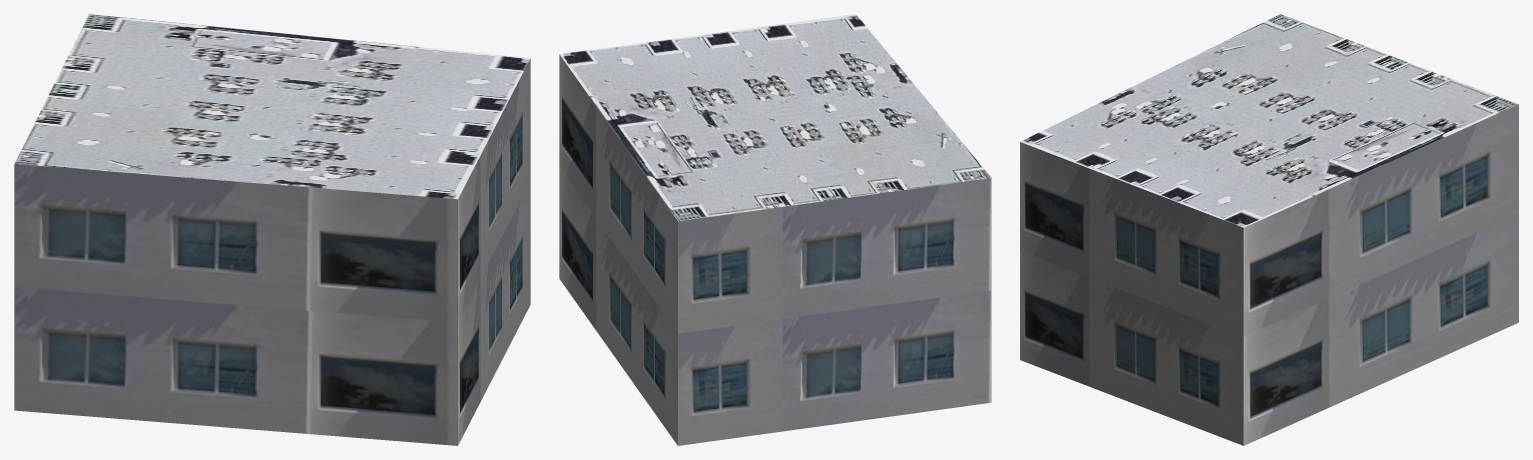
Rendered from ResTex__1680.fbx.
3 renders of one model, left to right at view 1: azimuth 30°, elevation 25°; view 2: azimuth 150°, elevation 25°; view 3: azimuth 270°, elevation 25°, orthographic. The views are drawn at different scales.
Visible parts, largest first — view 1: CityEngineMaterial_10_m, CityEngineMaterial_4_m; view 2: CityEngineMaterial_10_m, CityEngineMaterial_4_m; view 3: CityEngineMaterial_10_m, CityEngineMaterial_4_m.
Part boxes in pixels (x1,y1,x2,y2): CityEngineMaterial_10_m: [14, 58, 530, 445]; CityEngineMaterial_4_m: [14, 14, 530, 199]; CityEngineMaterial_10_m: [559, 54, 991, 445]; CityEngineMaterial_4_m: [559, 14, 991, 221]; CityEngineMaterial_10_m: [1020, 104, 1518, 445]; CityEngineMaterial_4_m: [1020, 14, 1518, 227].
Bounding box in the file's own units: 12.61 × 6 × 12.44.
Materials: 2 (2 with a texture image).
